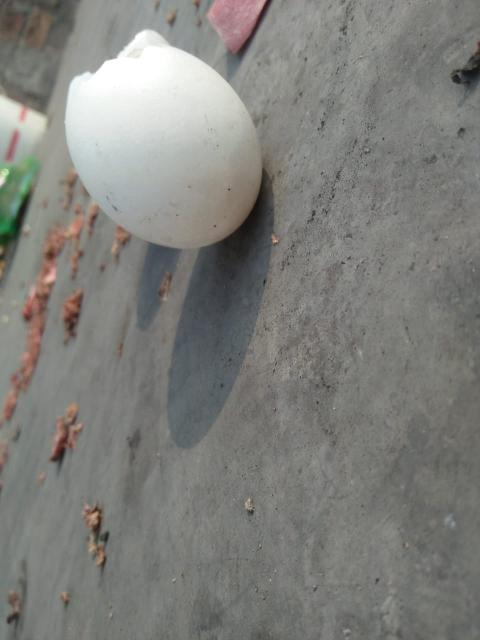Roto: (63, 28, 264, 250)
